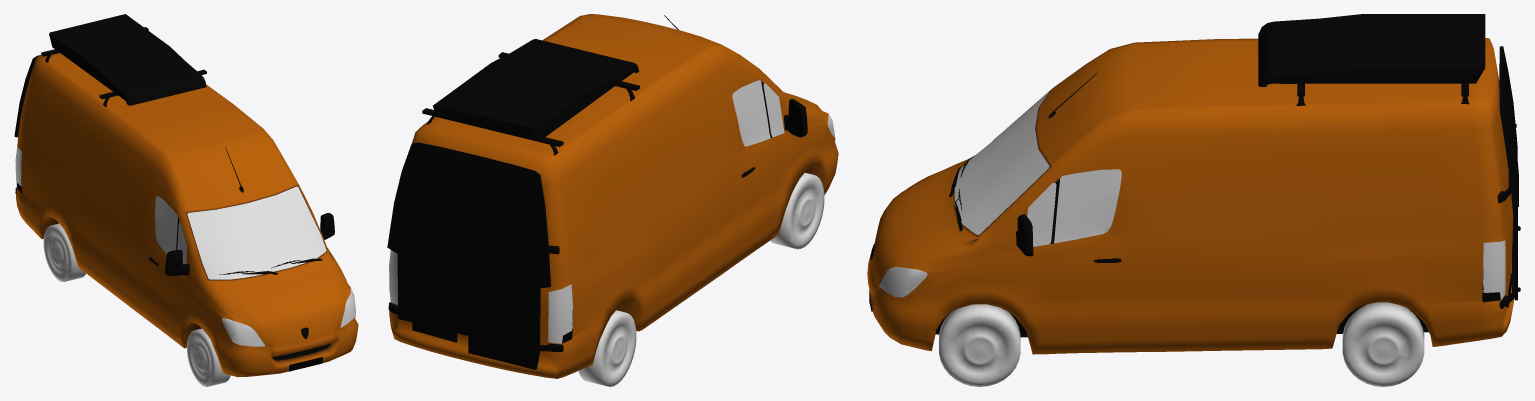
Rendered from WBSchleicherEscortVehicle.fbx.
The picture shows the model from 3 angles, left to right: view 1: azimuth 30°, elevation 25°; view 2: azimuth 150°, elevation 25°; view 3: azimuth 270°, elevation 25°; orthographic projection. The views are drawn at different scales.
Visible parts, largest first — view 1: body, Glass, wheels; view 2: body, wheels, Glass; view 3: body, Glass, wheels.
Part boxes in pixels (x1=…): body: x1=14, y1=14, x2=358, y2=377; Glass: x1=15, y1=147, x2=355, y2=346; wheels: x1=43, y1=223, x2=230, y2=386; body: x1=387, y1=14, x2=838, y2=378; wheels: x1=578, y1=172, x2=824, y2=386; Glass: x1=389, y1=80, x2=835, y2=343; body: x1=867, y1=14, x2=1520, y2=354; Glass: x1=879, y1=92, x2=1505, y2=299; wheels: x1=939, y1=302, x2=1424, y2=386.
Bounding box in the file's own units: 0.0244 × 0.0298 × 0.0584.
